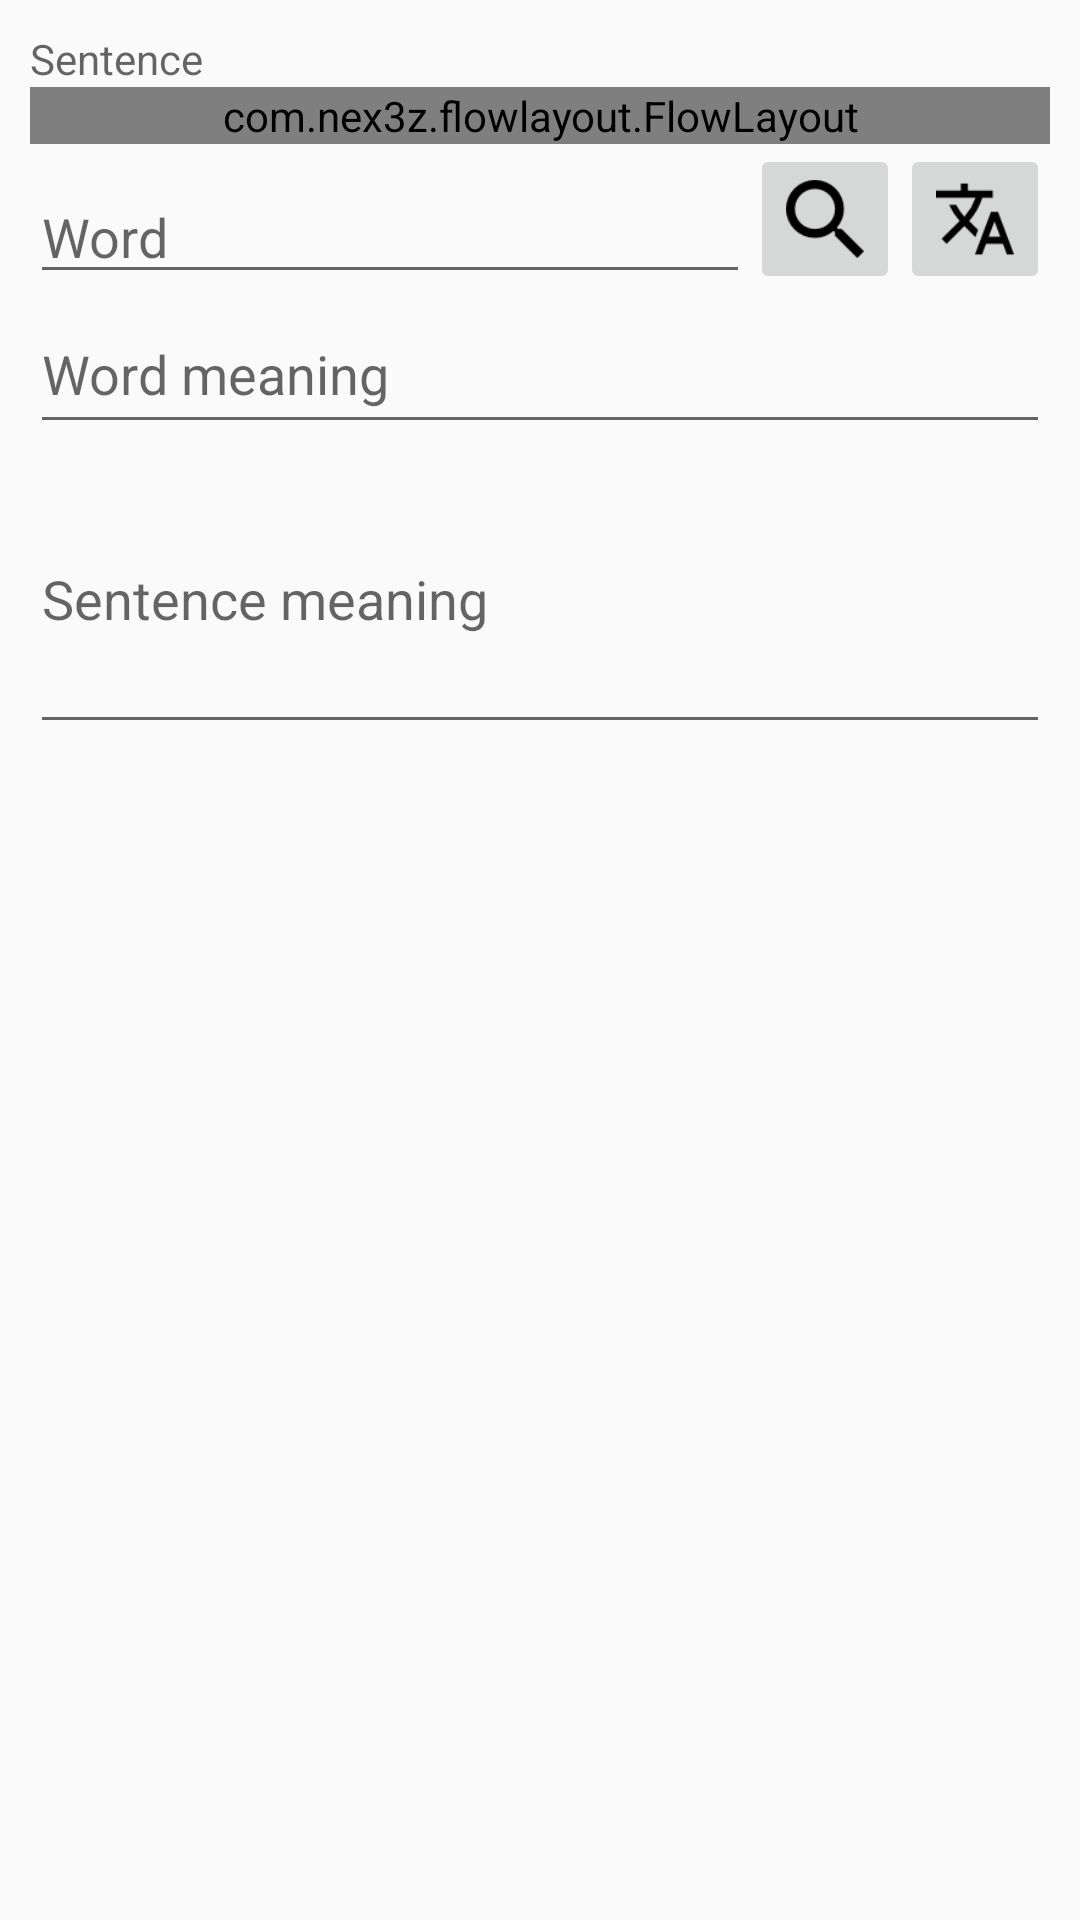

Icons on this 1080px×1920px Android screen, each with the point to tap as (x=x, y=y):
Search on the Web: (x=825, y=219)
Translate: (x=975, y=219)
